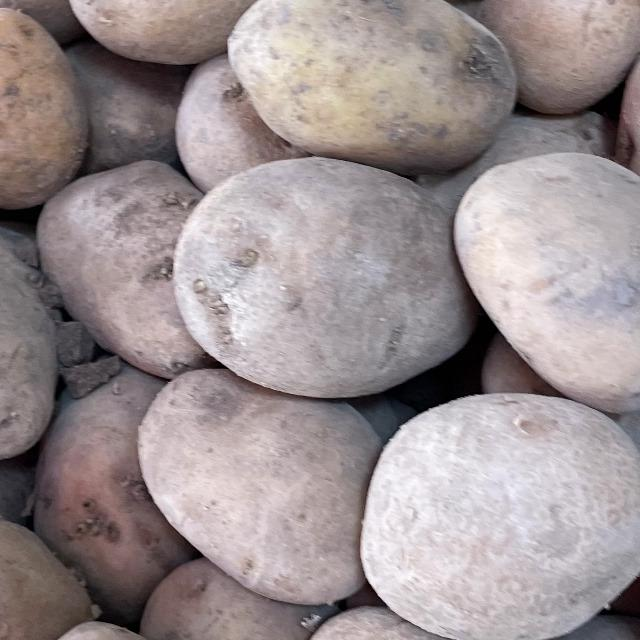potato: (158, 132, 508, 390), (352, 380, 640, 640), (0, 0, 97, 225)
